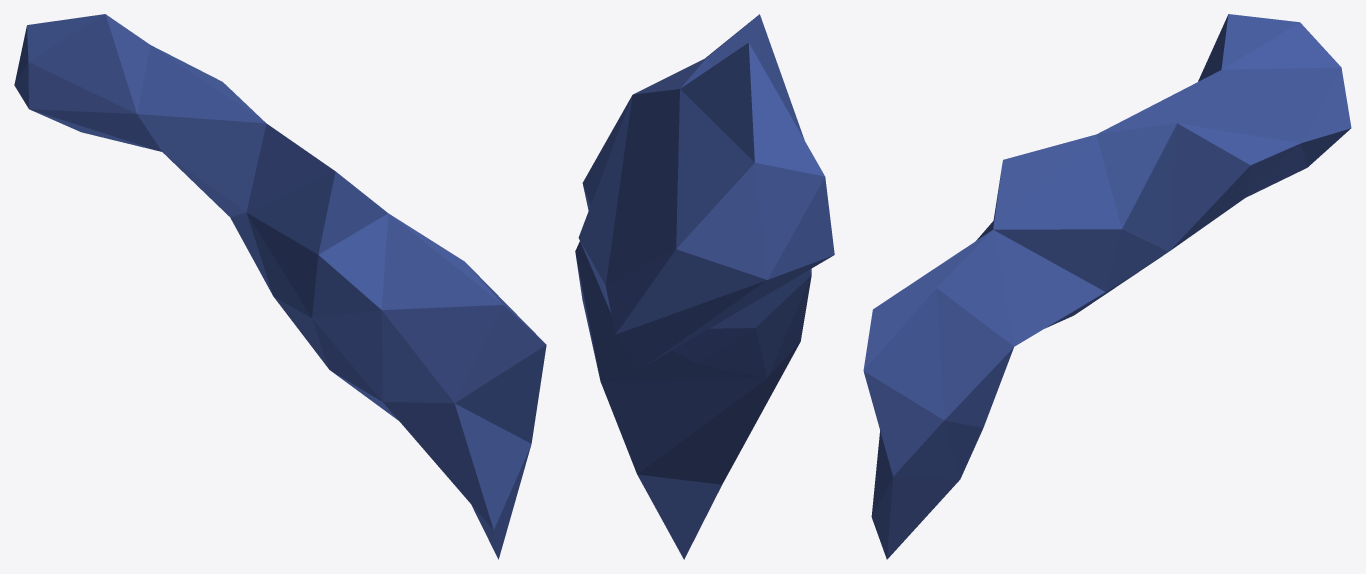
File: Model_261_RH__Anterodorsal_thalamic_nucleus_(AD).obj
3 renders of one model, left to right at view 1: azimuth 30°, elevation 25°; view 2: azimuth 150°, elevation 25°; view 3: azimuth 270°, elevation 25°, orthographic. The views are drawn at different scales.
Size of the model in its own units: 0.2806 by 0.4012 by 0.3977.
